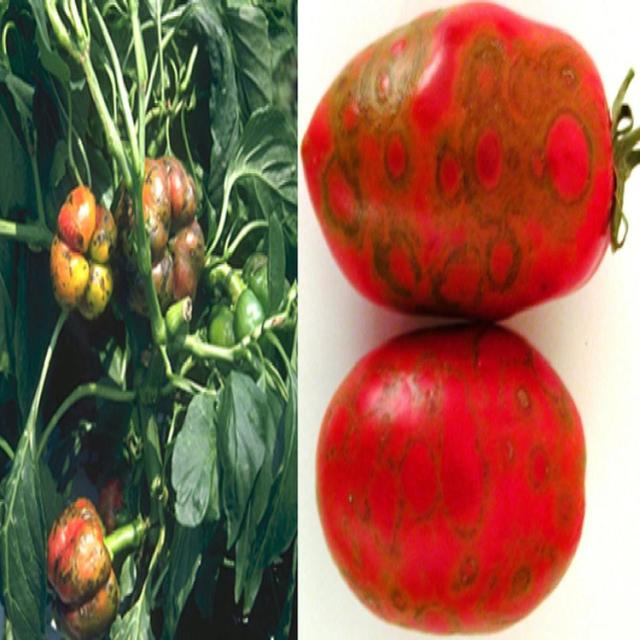Spotted wilt Virus Fruit: (180, 107, 314, 320)
